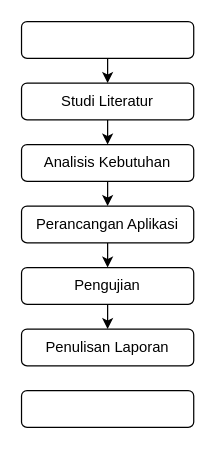
Image size: 215x449. Some labels were removed from this diagram. The centre of each missing label's shape, as x and y in pixels:
"Mulai" goes at [107,39].
"Selesai" goes at [107,408].
